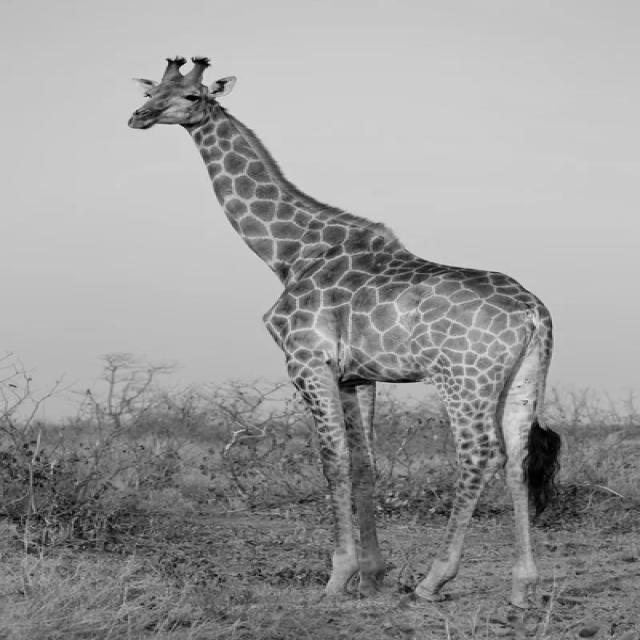Animal: (128, 58, 562, 609)
